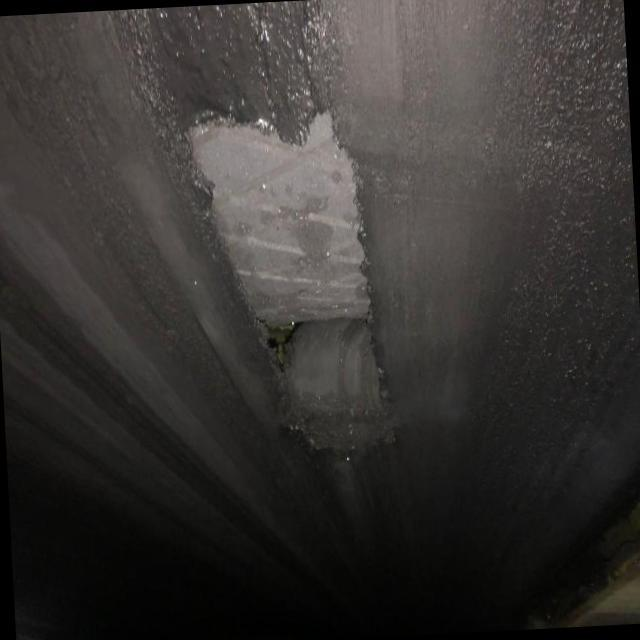Wear: (196, 105, 447, 512)
